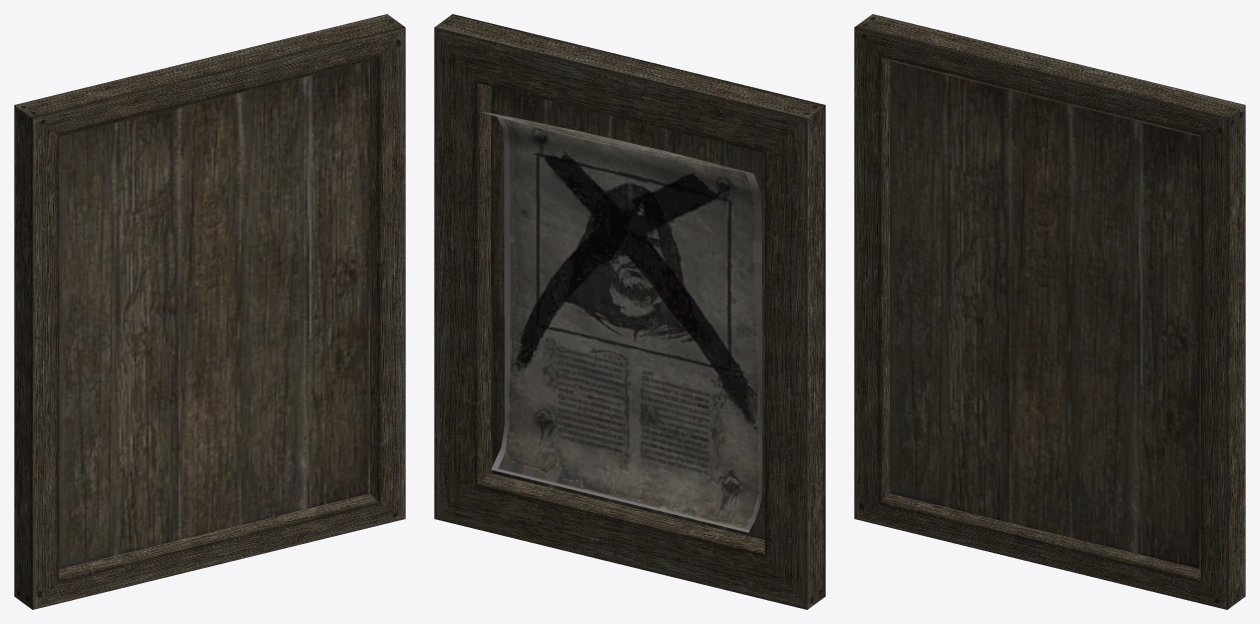
The model's file is eso_gu9_WantedPoster-transformed.glb.
The picture shows the model from 3 angles, left to right: view 1: azimuth 30°, elevation 25°; view 2: azimuth 150°, elevation 25°; view 3: azimuth 330°, elevation 25°; orthographic projection.
Visible parts, largest first — view 1: default; view 2: default; view 3: default.
Boxes of the visible parts, x1=… form: default: x1=14, y1=14, x2=405, y2=609; default: x1=434, y1=14, x2=825, y2=609; default: x1=854, y1=14, x2=1245, y2=609.
Size of the model in its own units: 1.17 by 1.48 by 0.16.
1 material, 1 textured.
